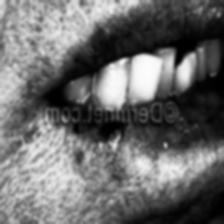Potentially Malignant Skin Tumors: (63, 121, 131, 157)
